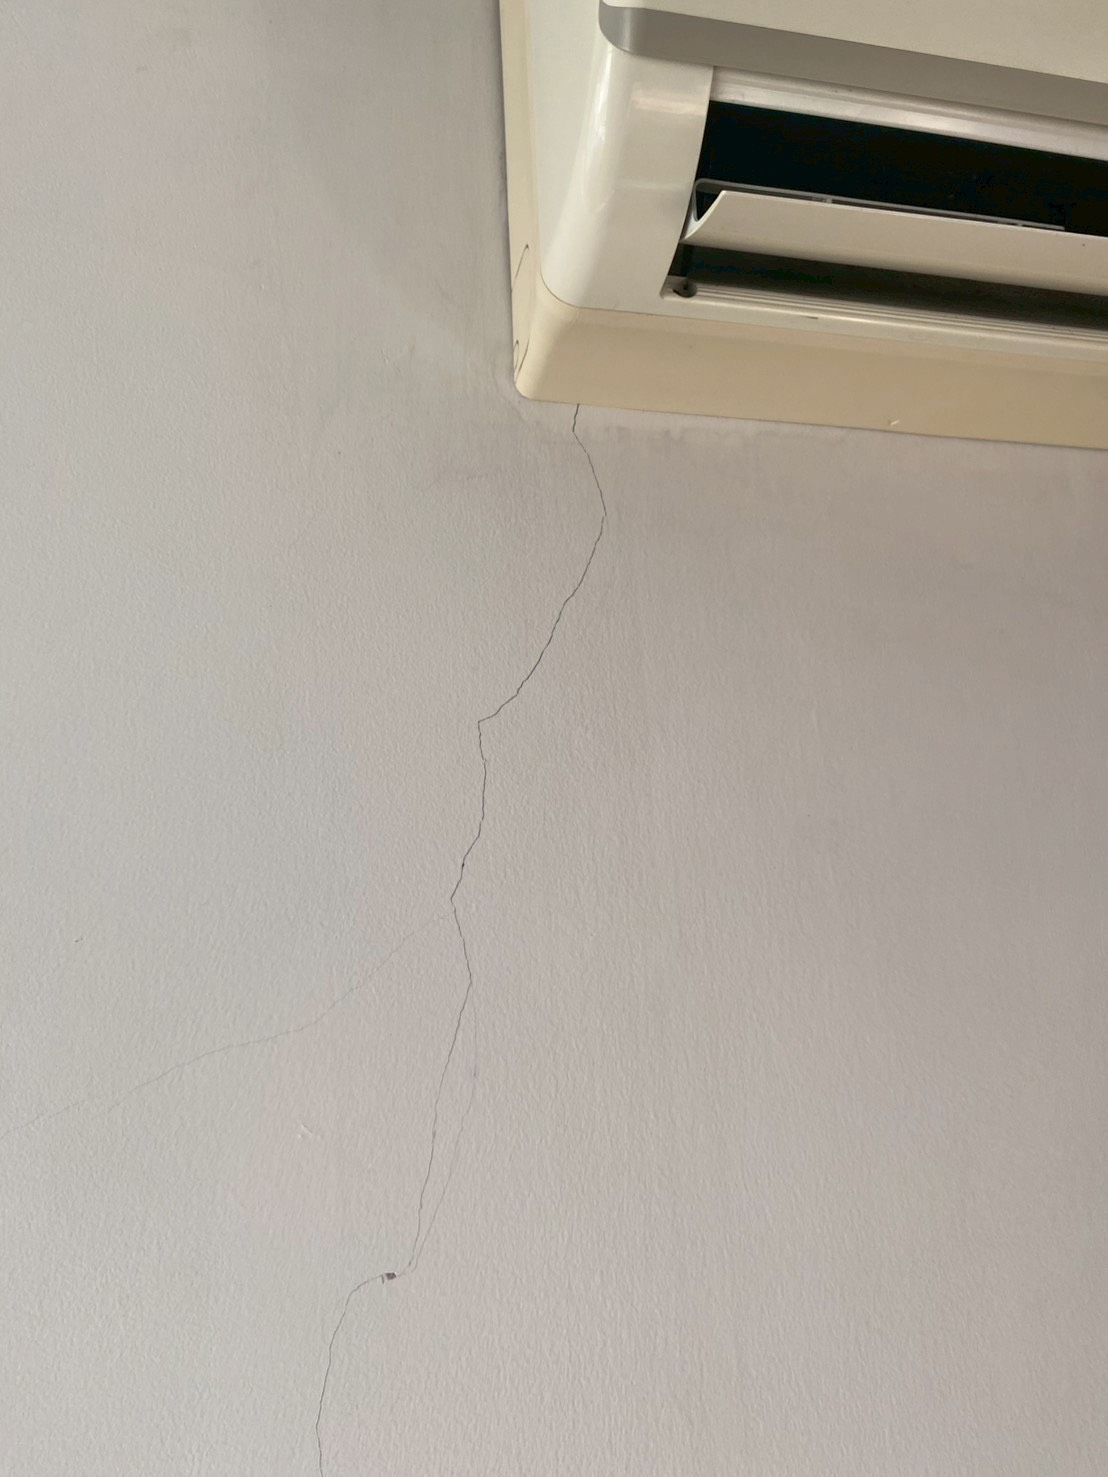Low: (280, 376, 710, 1477)
